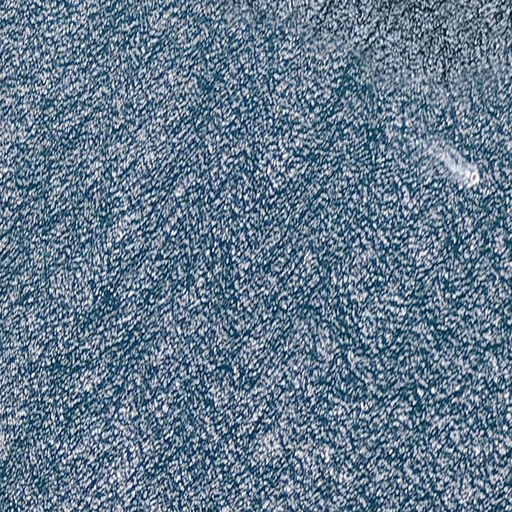ship: (468, 169, 480, 186)
